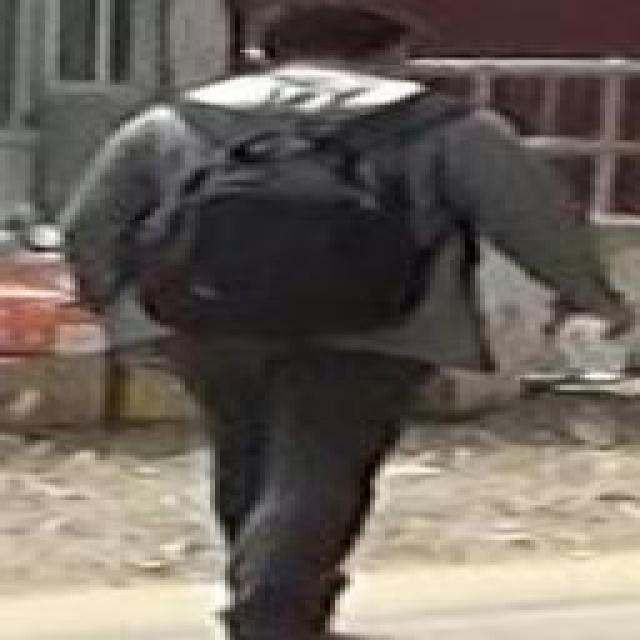adult: (53, 12, 577, 640)
